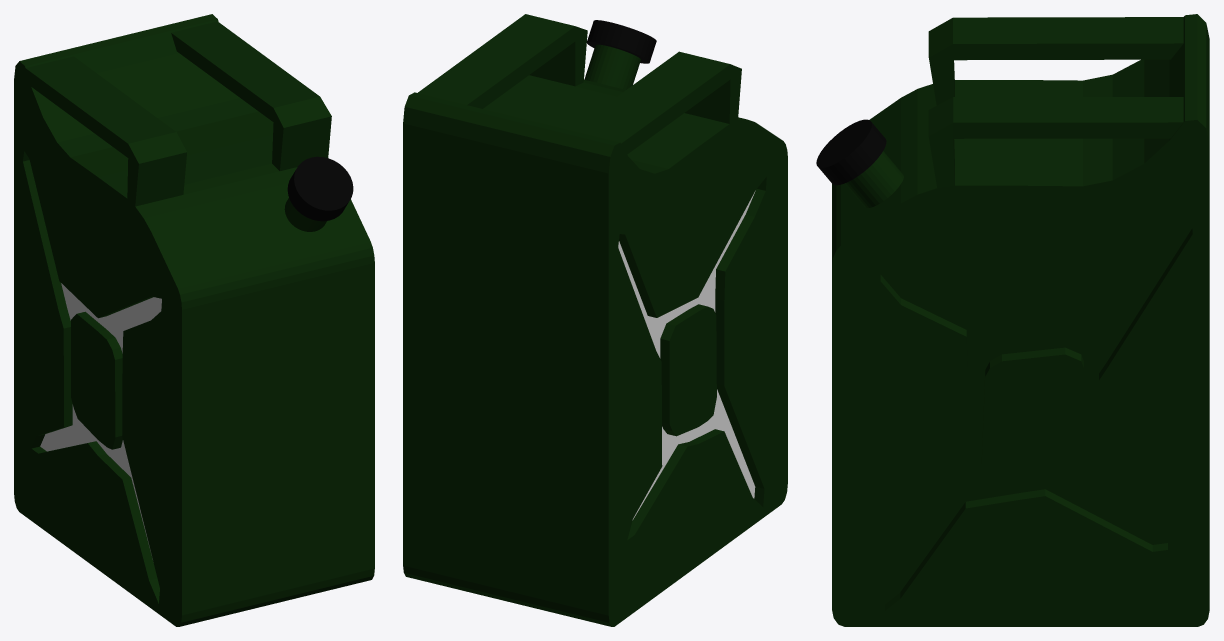
The model's file is Jerry_Can.fbx.
The picture shows the model from 3 angles, left to right: view 1: azimuth 30°, elevation 25°; view 2: azimuth 150°, elevation 25°; view 3: azimuth 270°, elevation 25°; orthographic projection. The views are drawn at different scales.
Visible parts, largest first — view 1: Cube, Cylinder; view 2: Cube, Cylinder; view 3: Cube, Cylinder.
Part boxes in pixels (left/top/right/bottom): Cube: left=14, top=14, right=374, bottom=626; Cylinder: left=284, top=156, right=353, bottom=231; Cube: left=403, top=14, right=787, bottom=626; Cylinder: left=584, top=20, right=656, bottom=89; Cube: left=832, top=14, right=1209, bottom=626; Cylinder: left=816, top=119, right=903, bottom=207.
Bounding box in the file's own units: 671 × 1501 × 1054.
